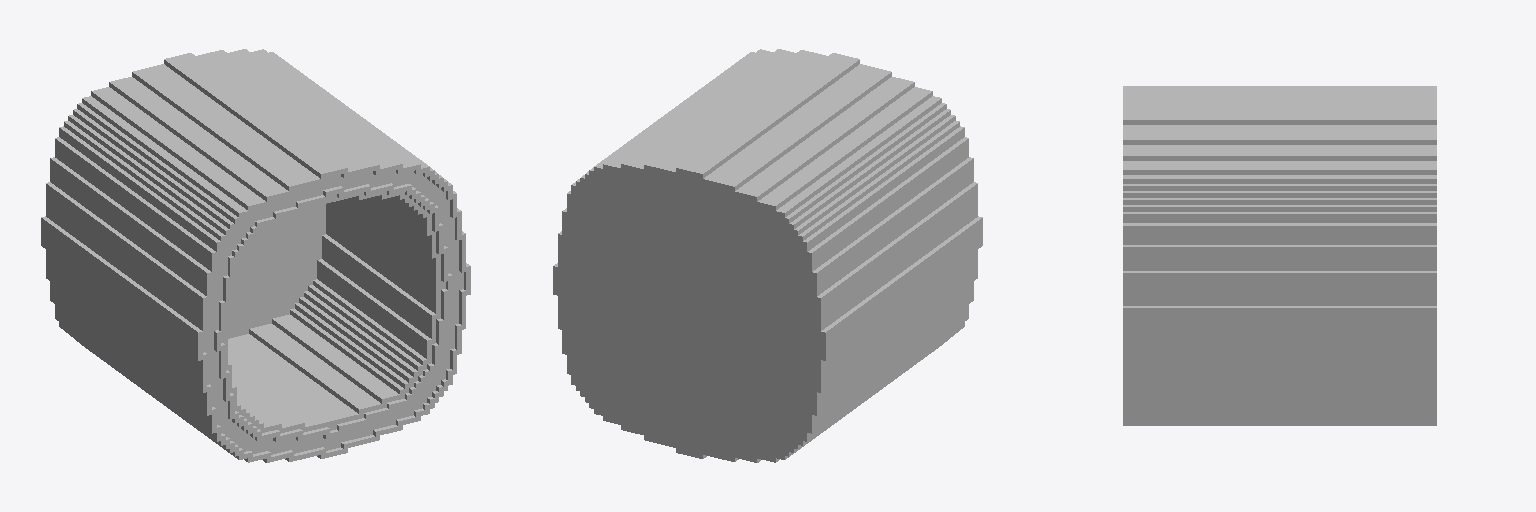
File: pipe.obj
3 views of the same model, side by side, from view 1: azimuth 30°, elevation 25°; view 2: azimuth 150°, elevation 25°; view 3: azimuth 270°, elevation 25° (orthographic).
Bounding box in the file's own units: 60 × 60 × 60.